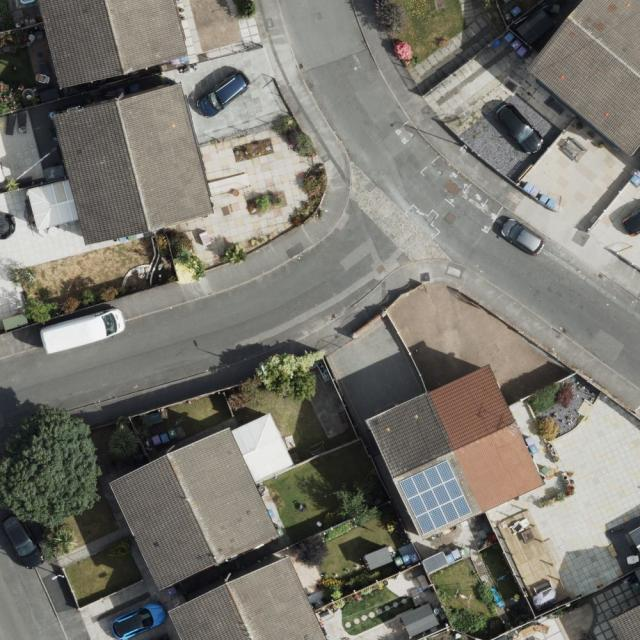roof: (108, 411, 293, 593), (366, 364, 545, 541), (25, 84, 215, 247), (527, 0, 640, 158), (34, 0, 191, 91), (166, 554, 329, 640), (609, 603, 640, 640)
solar: (399, 462, 474, 535)
